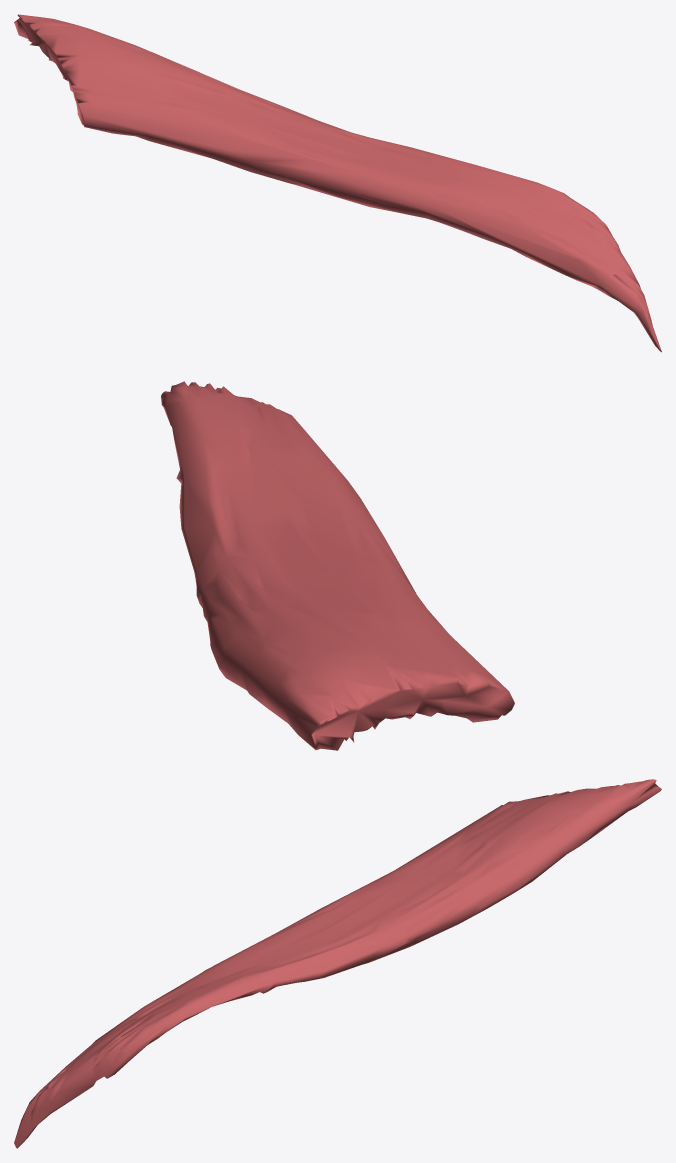
The picture shows the model from 3 angles, top to bottom: view 1: azimuth 30°, elevation 25°; view 2: azimuth 150°, elevation 25°; view 3: azimuth 270°, elevation 25°; orthographic projection. The views are drawn at different scales.
Parts seen in each view (by area): view 1: 右侧小菱形肌; view 2: 右侧小菱形肌; view 3: 右侧小菱形肌.
Boxes of the visible parts, x1,y1,x2,y2 form: 右侧小菱形肌: (14,14,661,352); 右侧小菱形肌: (161,381,514,750); 右侧小菱形肌: (14,779,661,1148).
Size of the model in its own units: 0.0963 by 0.0511 by 0.1489.
